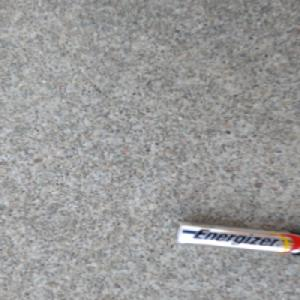Battery: (173, 220, 300, 259)
